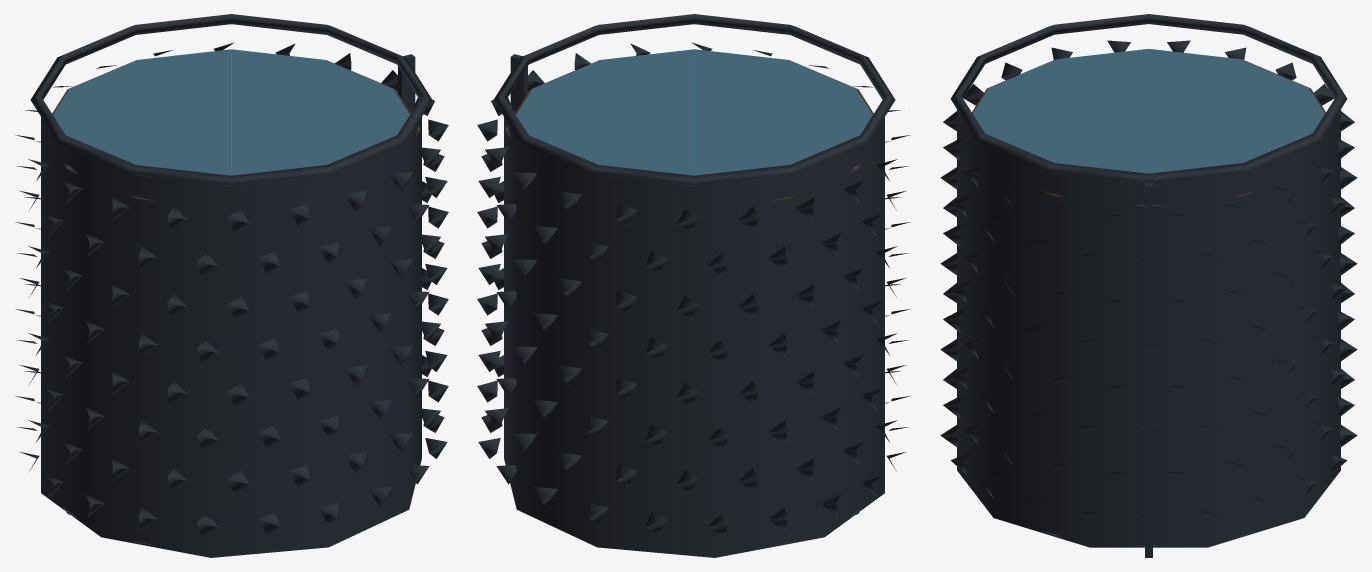
The model's file is vessel--airpot_20l.glb.
3 renders of one model, left to right at view 1: azimuth 30°, elevation 25°; view 2: azimuth 150°, elevation 25°; view 3: azimuth 270°, elevation 25°, orthographic.
Visible parts, largest first — view 1: pot_body, soil_surface, soil_wet, pot_rim; view 2: pot_body, soil_surface, soil_wet, pot_rim; view 3: pot_body, soil_surface, soil_wet, pot_rim.
Boxes of the visible parts, x1=… form: pot_body: x1=15, y1=42, x2=448, y2=557; soil_surface: x1=52, y1=49, x2=420, y2=200; soil_wet: x1=53, y1=49, x2=417, y2=196; pot_rim: x1=30, y1=14, x2=432, y2=185; pot_body: x1=477, y1=42, x2=910, y2=557; soil_surface: x1=505, y1=49, x2=873, y2=200; soil_wet: x1=508, y1=49, x2=872, y2=196; pot_rim: x1=493, y1=14, x2=895, y2=185; pot_body: x1=940, y1=40, x2=1357, y2=547; soil_surface: x1=972, y1=49, x2=1325, y2=206; soil_wet: x1=973, y1=49, x2=1324, y2=173; pot_rim: x1=950, y1=14, x2=1347, y2=557.
Size of the model in its own units: 0.326 by 0.3243 by 0.326.
